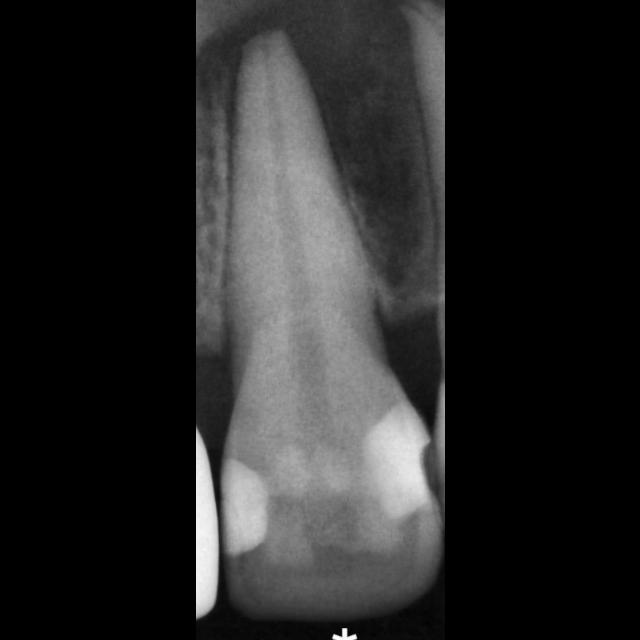tooth: (221, 29, 439, 618)
